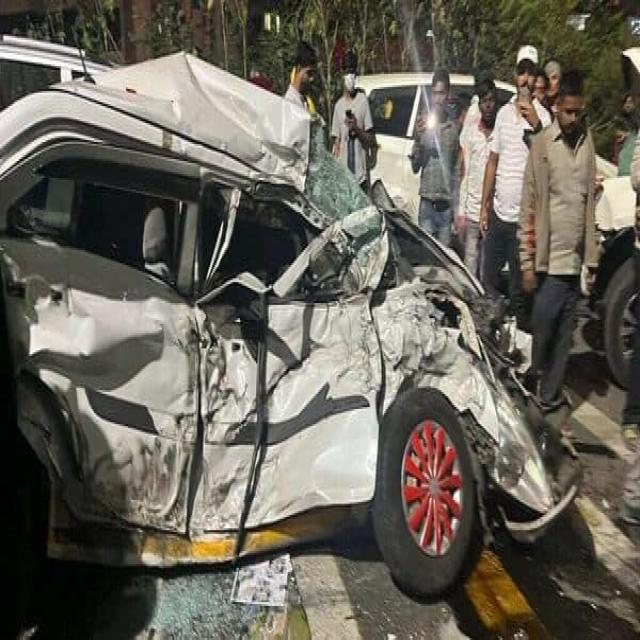accident: (0, 53, 579, 595)
